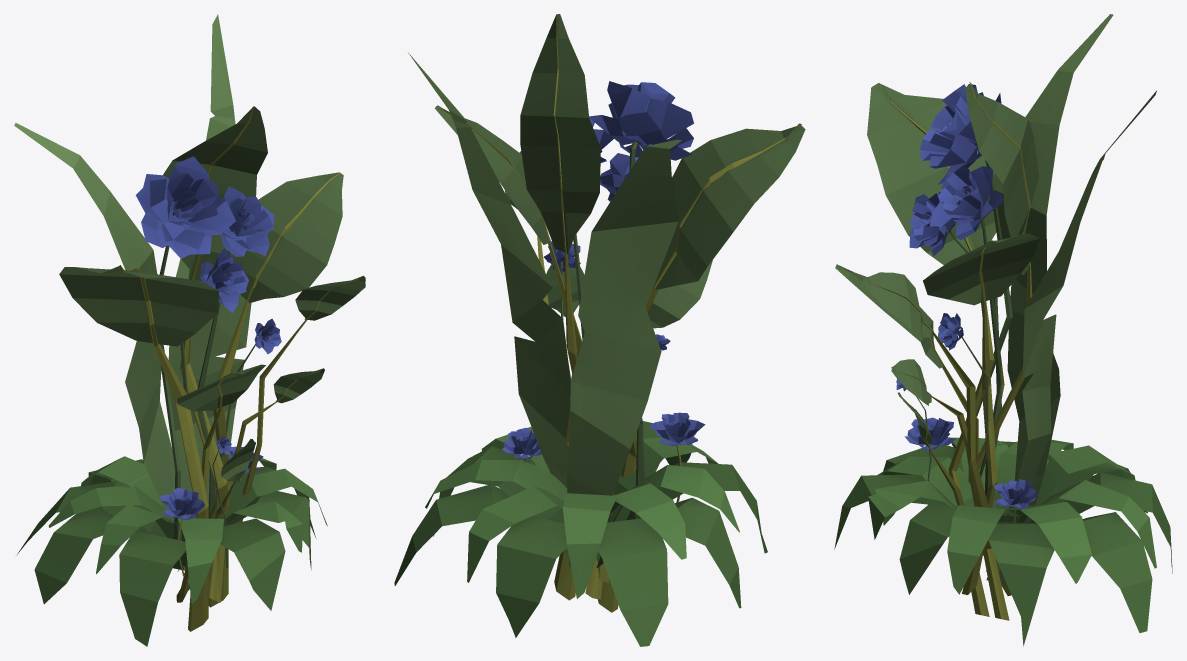
The model's file is Plant01_Uvd.fbx.
3 renders of one model, left to right at view 1: azimuth 30°, elevation 25°; view 2: azimuth 150°, elevation 25°; view 3: azimuth 270°, elevation 25°, orthographic. The views are drawn at different scales.
Visible parts, largest first — view 1: Flower01Plant; view 2: Flower01Plant; view 3: Flower01Plant.
Part boxes in pixels (x1=…): Flower01Plant: x1=14, y1=14, x2=365, y2=646; Flower01Plant: x1=394, y1=14, x2=805, y2=646; Flower01Plant: x1=834, y1=14, x2=1172, y2=646.
Size of the model in its own units: 84.87 by 150 by 78.84.
